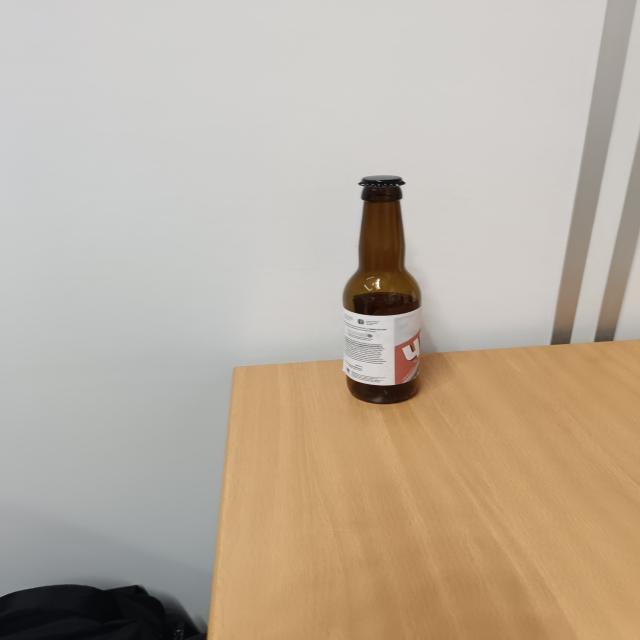Bottle: (342, 171, 425, 404)
Cap: (352, 173, 411, 191)
Label: (342, 311, 421, 385)
